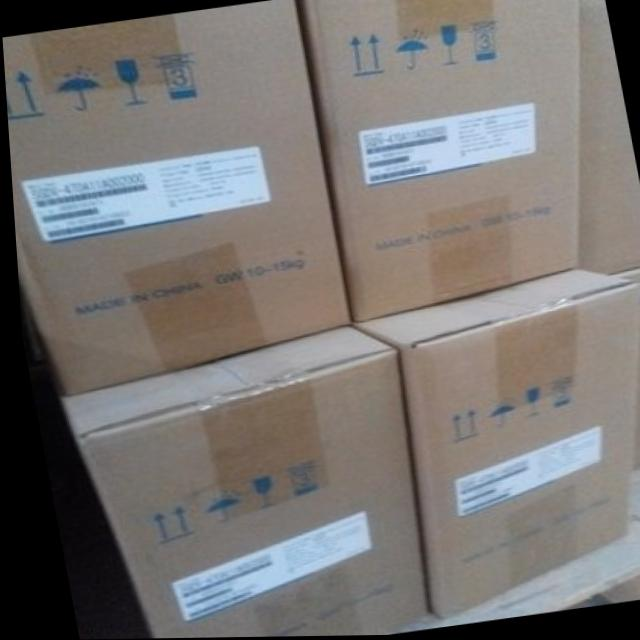box: (2, 0, 347, 395), (56, 323, 417, 639), (349, 269, 639, 622), (298, 0, 578, 323), (578, 0, 640, 276), (608, 265, 640, 474)
